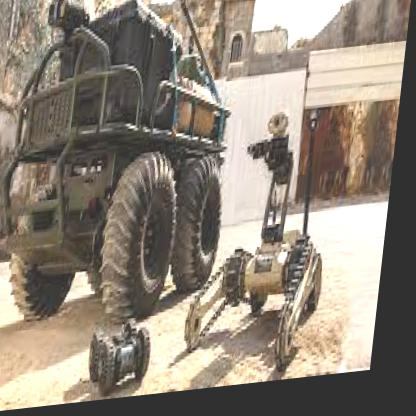UGV: (0, 0, 249, 340), (189, 116, 346, 384)
